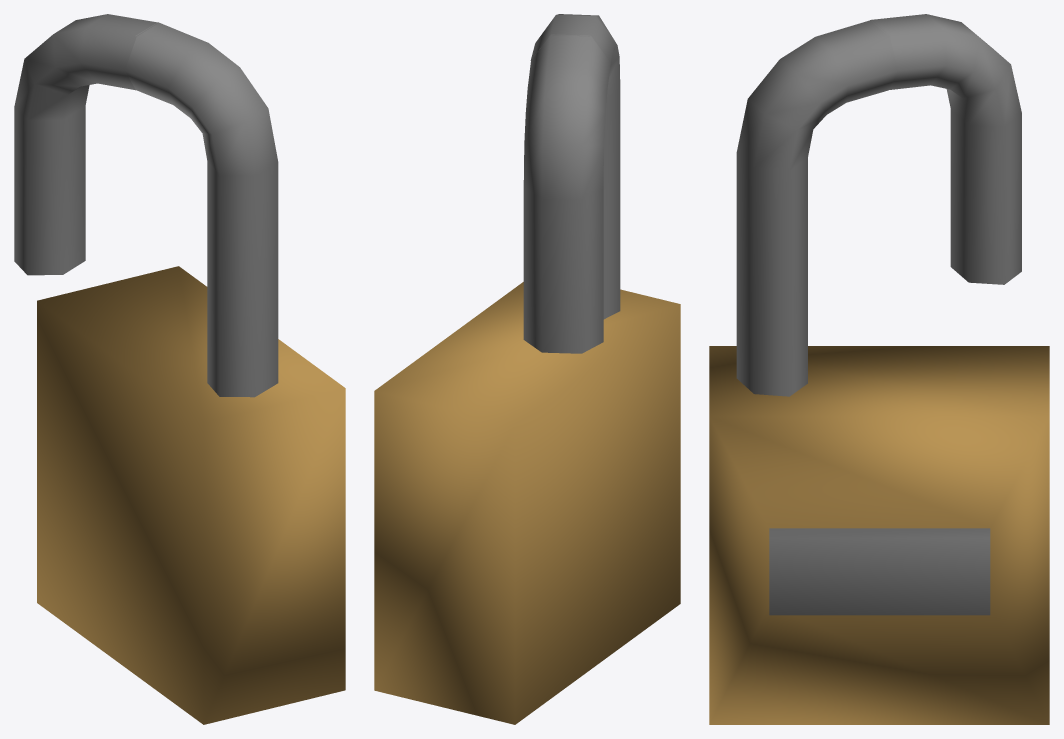
File: Cadenas_ouvert.fbx
3 renders of one model, left to right at view 1: azimuth 30°, elevation 25°; view 2: azimuth 150°, elevation 25°; view 3: azimuth 270°, elevation 25°, orthographic. The views are drawn at different scales.
Parts seen in each view (by area): view 1: pCube1, pCylinder3; view 2: pCube1, pCylinder3; view 3: pCube1, pCylinder3.
Boxes of the visible parts, x1,y1,x2,y2 form: pCube1: (37, 266, 345, 724); pCylinder3: (14, 14, 278, 397); pCube1: (374, 282, 680, 724); pCylinder3: (523, 14, 620, 353); pCube1: (709, 346, 1049, 724); pCylinder3: (736, 14, 1021, 396).
Bounding box in the file's own units: 0.2632 × 0.7475 × 0.3599.
